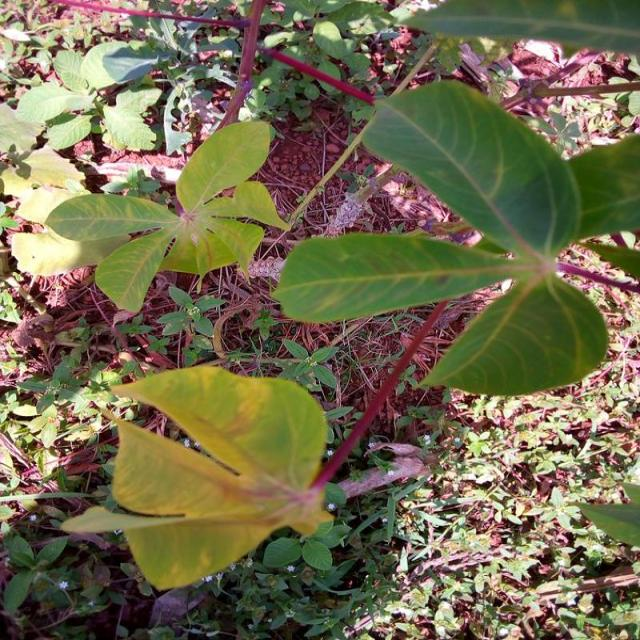cassava leaf: (272, 77, 634, 396), (61, 363, 336, 591), (42, 117, 289, 314), (360, 78, 581, 261)
